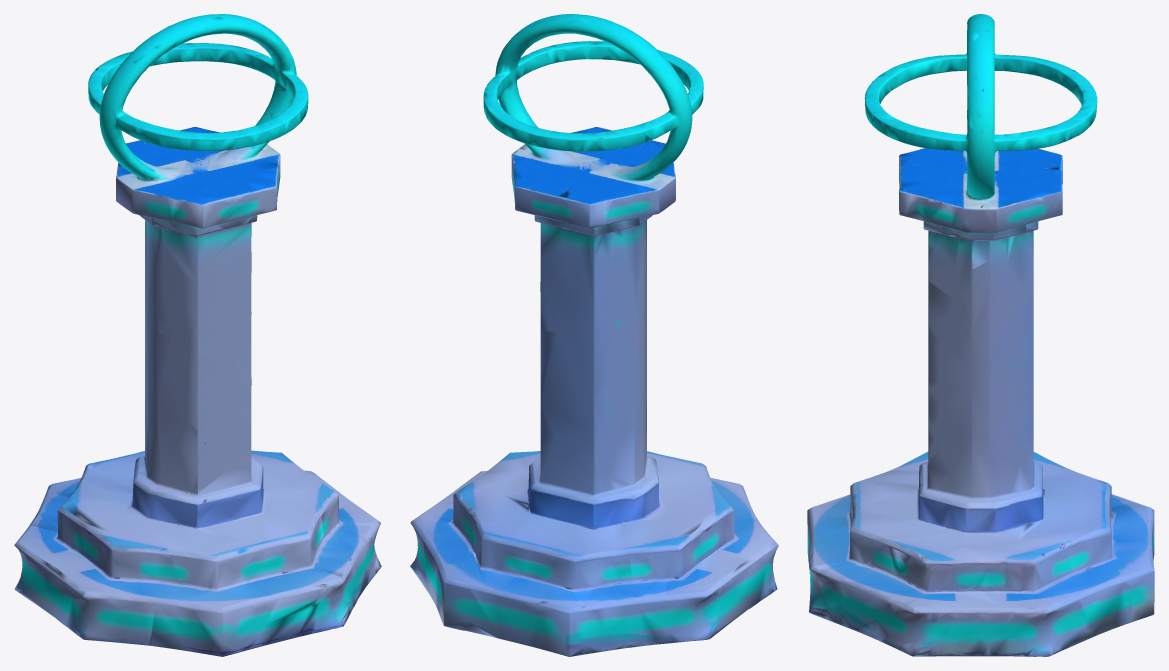
File: pedestal.glb
3 views of the same model, side by side, from view 1: azimuth 30°, elevation 25°; view 2: azimuth 150°, elevation 25°; view 3: azimuth 270°, elevation 25° (orthographic).
Size of the model in its own units: 1.07 by 1.91 by 1.08.
Materials: 1 (1 with a texture image).
